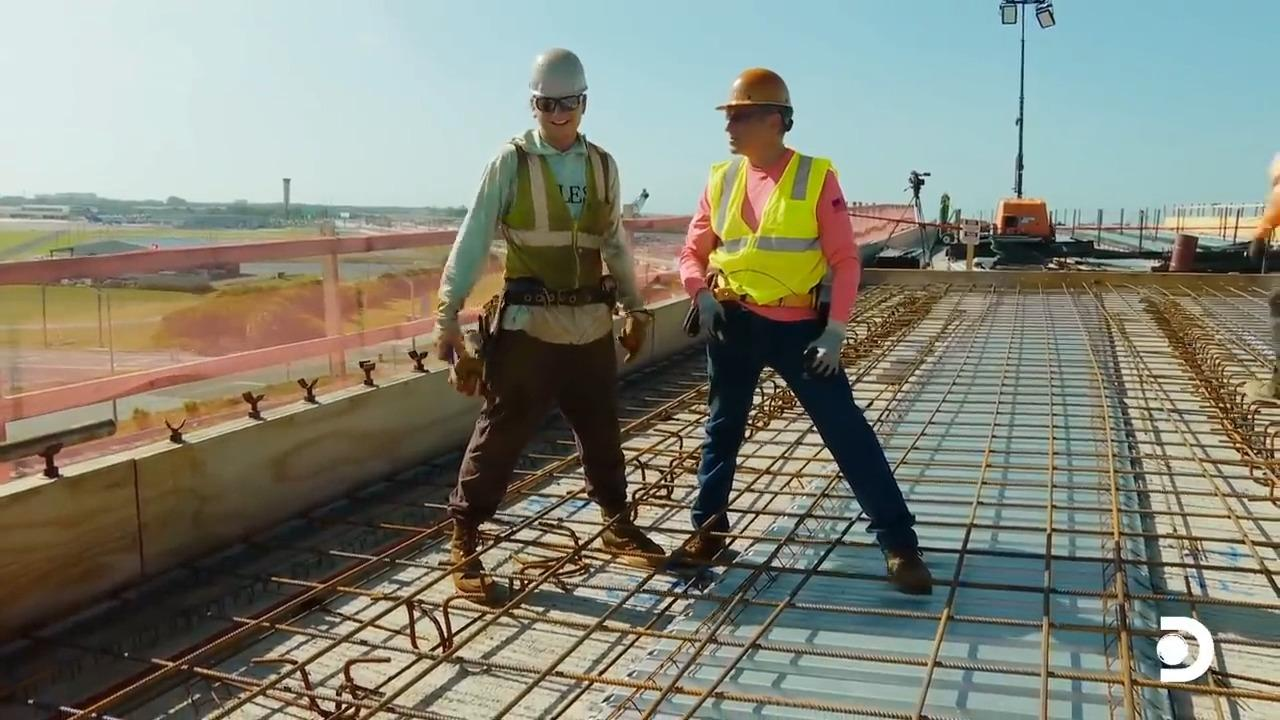Gloves: (792, 325, 845, 368), (429, 312, 464, 358), (693, 290, 721, 339), (616, 311, 643, 352)
Helmet: (714, 67, 792, 110), (528, 47, 588, 99)
Person: (665, 66, 933, 596), (431, 47, 666, 597)
Safety Boot: (599, 522, 669, 570), (879, 541, 935, 599), (665, 522, 727, 566), (443, 551, 500, 595)
Safety Vest: (707, 170, 813, 302), (500, 146, 593, 294)
